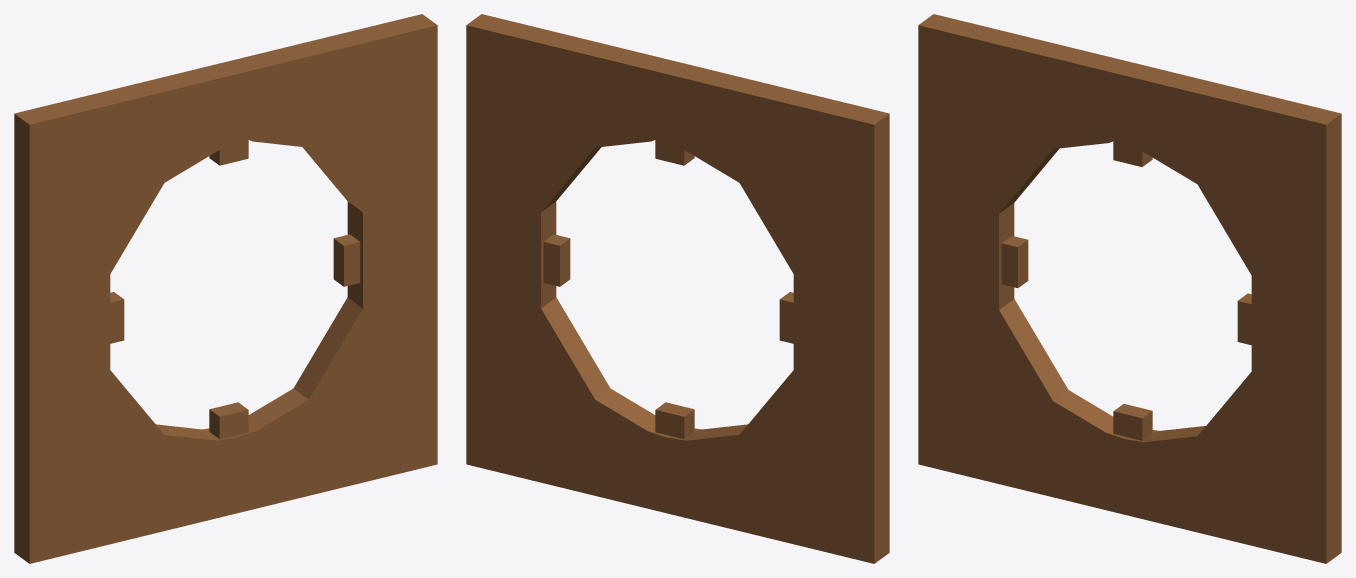
File: Prop_Llanterna_asetfaltant.fbx
3 renders of one model, left to right at view 1: azimuth 30°, elevation 25°; view 2: azimuth 150°, elevation 25°; view 3: azimuth 330°, elevation 25°, orthographic.
Visible parts, largest first — view 1: Cube.006; view 2: Cube.006; view 3: Cube.006.
Part boxes in pixels (x1,y1,x2,y2): Cube.006: (14,14,437,563); Cube.006: (466,14,889,563); Cube.006: (918,14,1341,563).
Bounding box in the file's own units: 15.14 × 15.57 × 0.9884.
